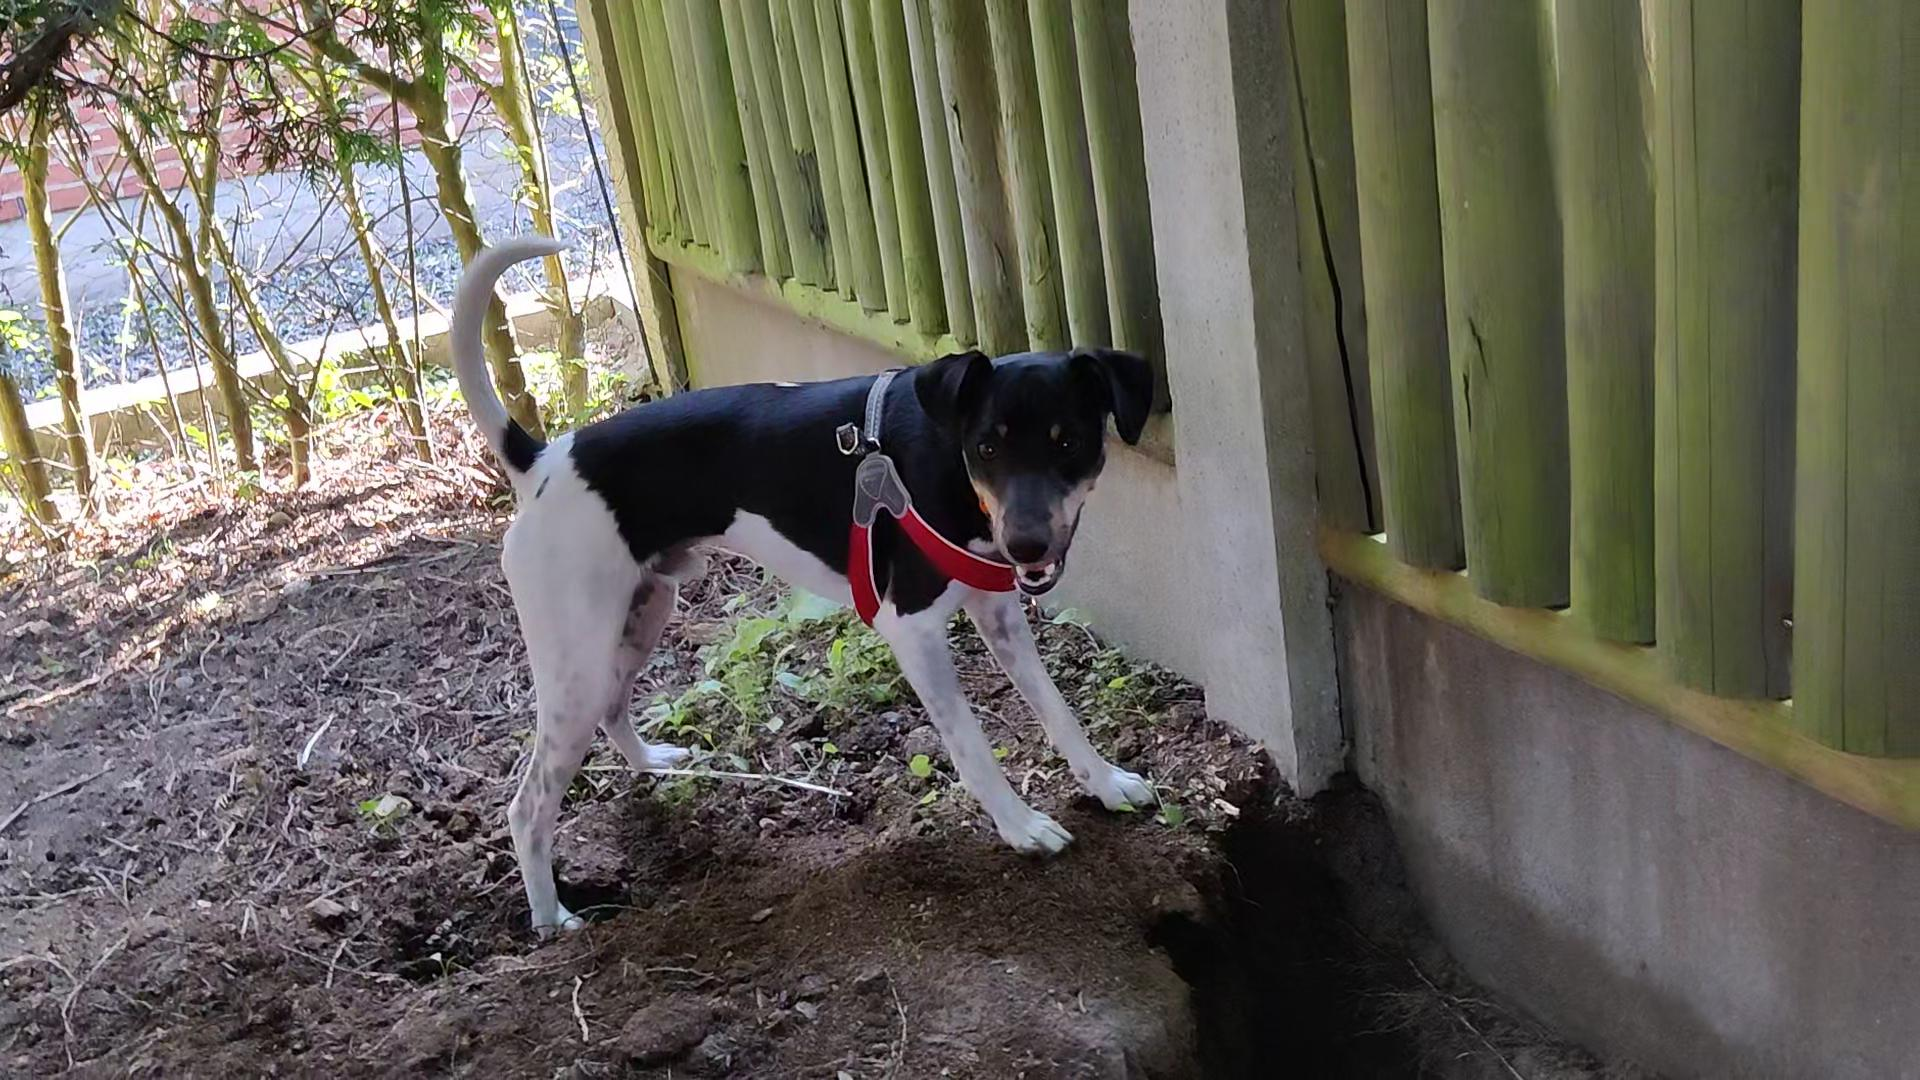Dog: (400, 196, 1203, 938)
